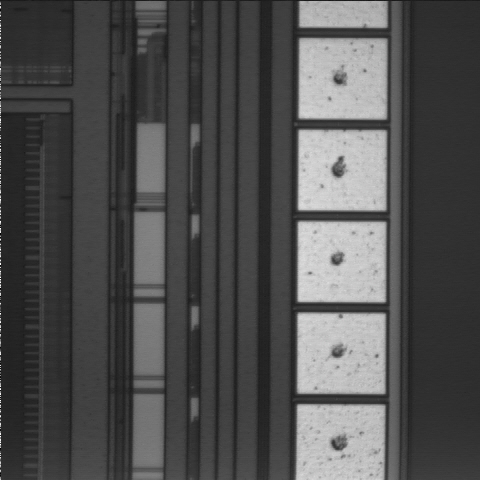pad: (298, 130, 386, 210), (299, 39, 386, 119), (298, 222, 385, 302), (298, 314, 385, 393)
